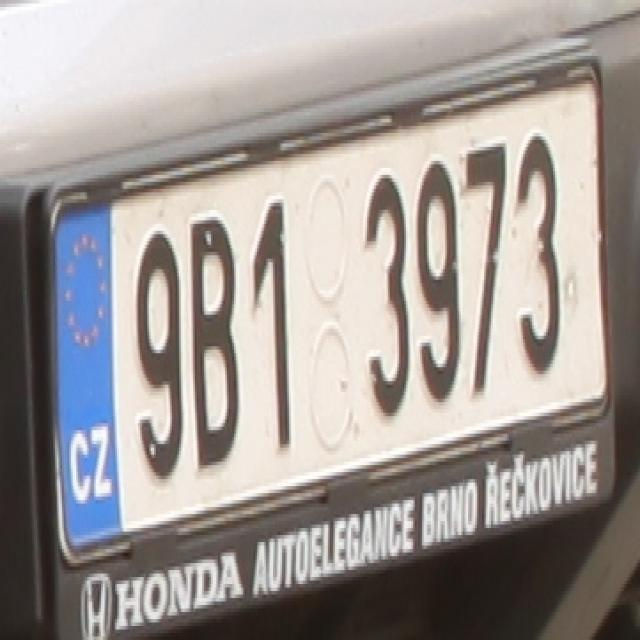1: (252, 189, 296, 451)
3: (514, 126, 562, 381), (362, 164, 406, 413)
7: (466, 143, 506, 392)
9: (413, 150, 465, 399), (130, 230, 182, 476)
B: (184, 217, 241, 476)
